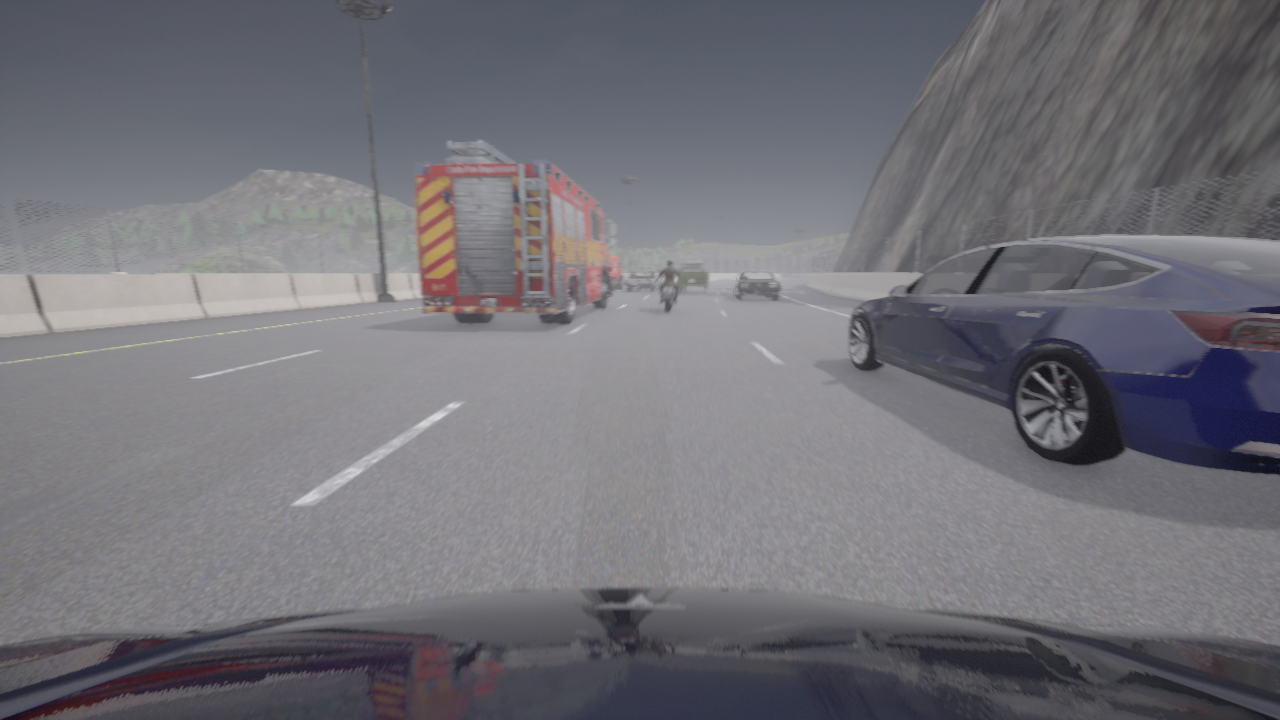cyclist: (0, 588, 1279, 719), (848, 235, 1279, 475), (415, 141, 617, 324), (734, 271, 780, 299), (678, 261, 710, 292), (625, 272, 662, 291), (661, 275, 678, 312), (610, 255, 625, 290)
